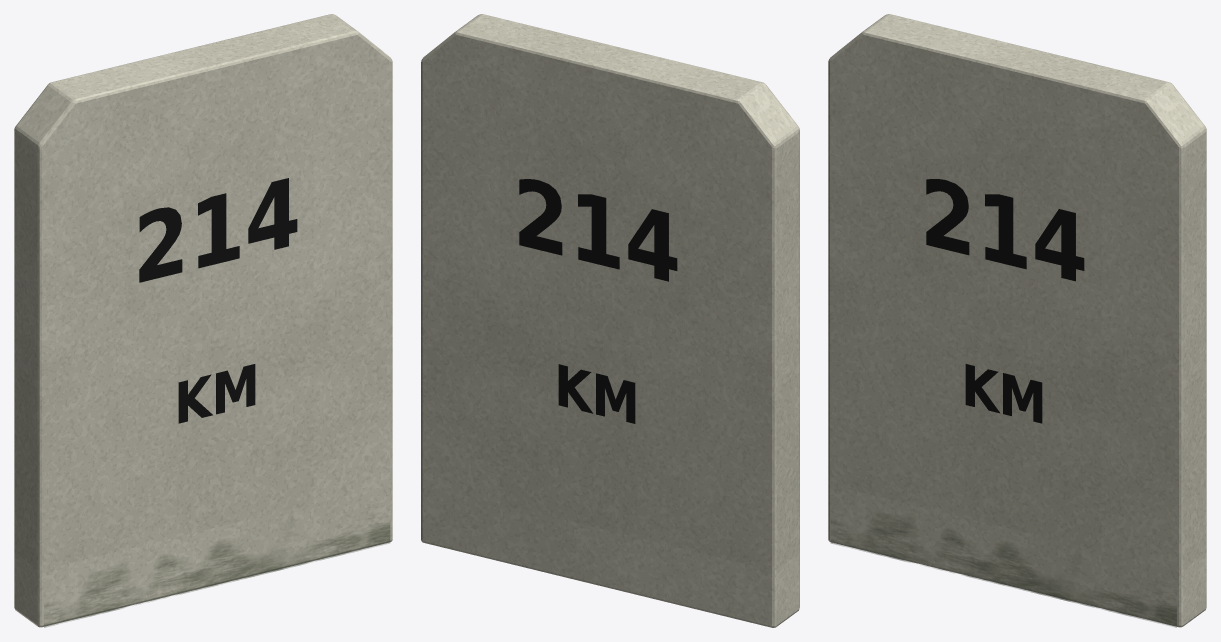
3 renders of one model, left to right at view 1: azimuth 30°, elevation 25°; view 2: azimuth 150°, elevation 25°; view 3: azimuth 330°, elevation 25°, orthographic.
Parts seen in each view (by area): view 1: TF3_KR_R08; view 2: TF3_KR_R08; view 3: TF3_KR_R08.
Part boxes in pixels (box(x1,y1,x2,y2)): TF3_KR_R08: box(14, 14, 392, 627); TF3_KR_R08: box(421, 14, 799, 627); TF3_KR_R08: box(828, 14, 1206, 627).
Size of the model in its own units: 0.5 by 0.7 by 0.0669.
Materials: 3 (2 with a texture image).
